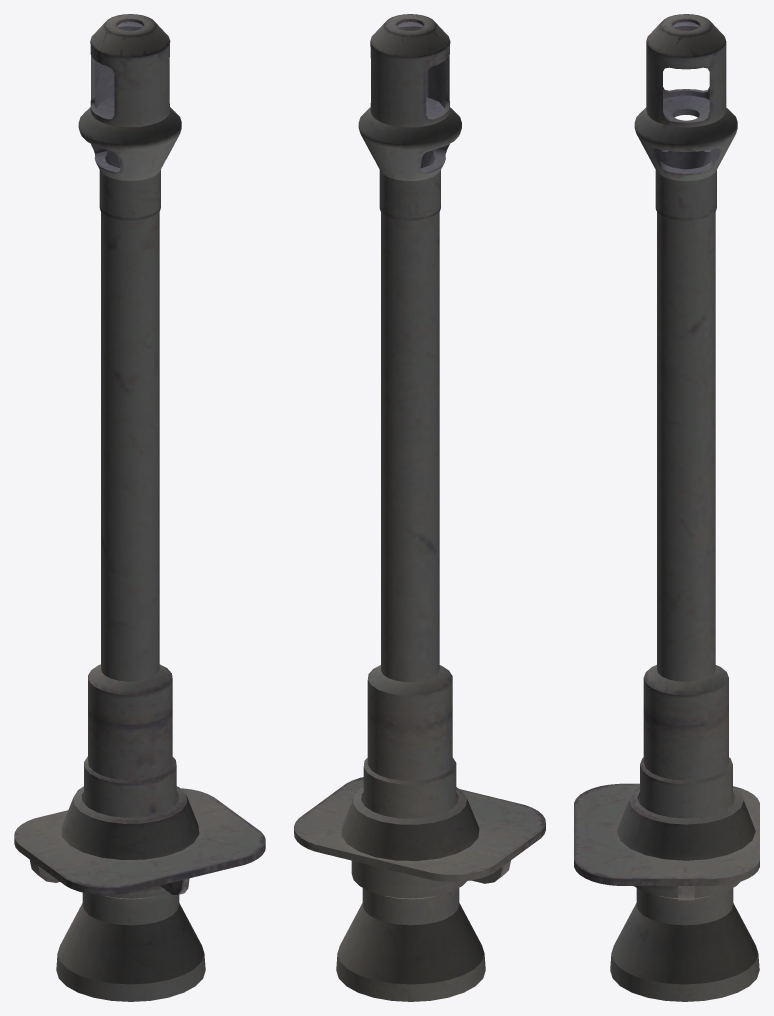
Rendered from Gun_02.glb.
The picture shows the model from 3 angles, left to right: view 1: azimuth 30°, elevation 25°; view 2: azimuth 150°, elevation 25°; view 3: azimuth 270°, elevation 25°; orthographic projection.
Visible parts, largest first — view 1: set_0_group_0; view 2: set_0_group_0; view 3: set_0_group_0.
Part boxes in pixels (x1,y1,x2,y2): set_0_group_0: (14,14,265,1001); set_0_group_0: (294,14,545,1001); set_0_group_0: (574,14,759,1001).
Bounding box in the file's own units: 0.8568 × 3.97 × 0.7077.
Materials: 1 (1 with a texture image).
